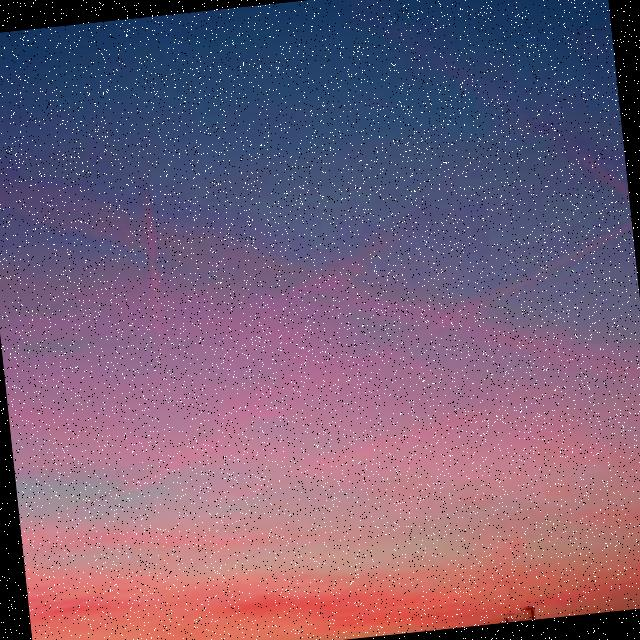Ct: (1, 1, 640, 555)
